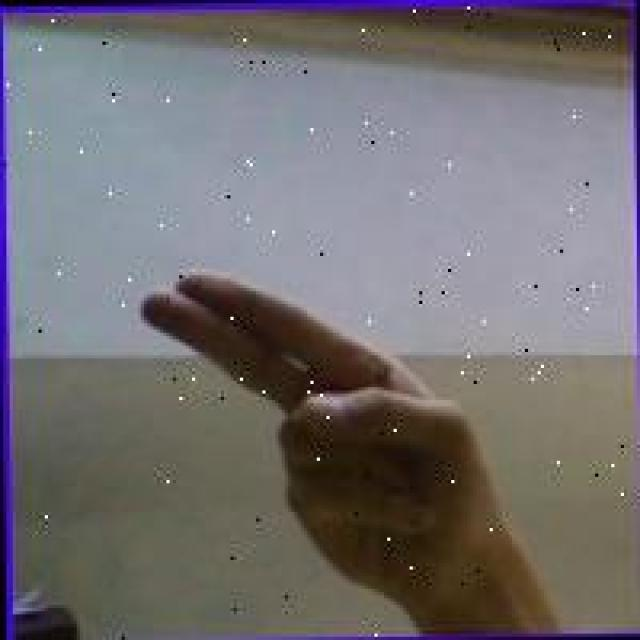H: (132, 258, 502, 616)
